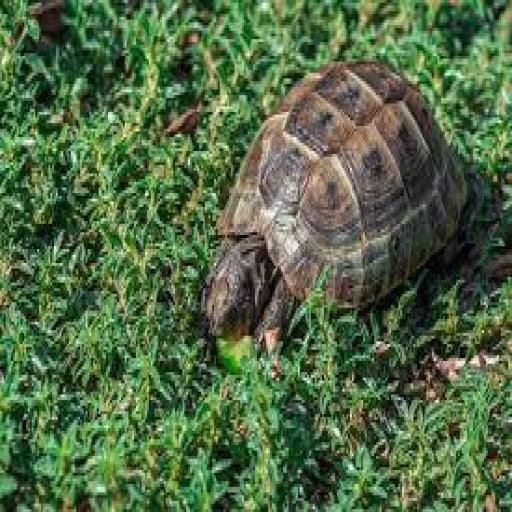turtle: (198, 50, 470, 360)
